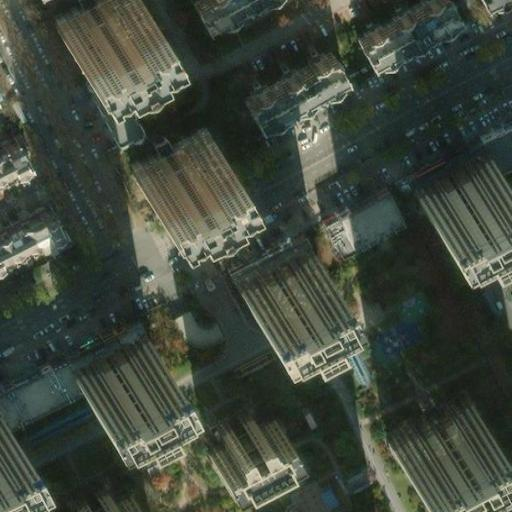building: (54, 30, 160, 155), (394, 113, 512, 190), (230, 42, 330, 111), (354, 0, 452, 60), (119, 115, 209, 179), (381, 391, 471, 455), (224, 245, 310, 308), (59, 334, 144, 395), (402, 152, 488, 212), (320, 188, 397, 252), (196, 402, 272, 457), (45, 0, 135, 43), (0, 206, 59, 260), (60, 482, 126, 512)
